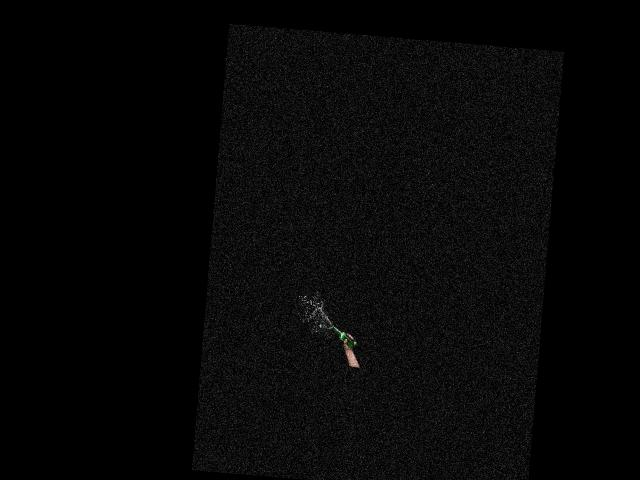beer: (330, 325, 358, 349)
